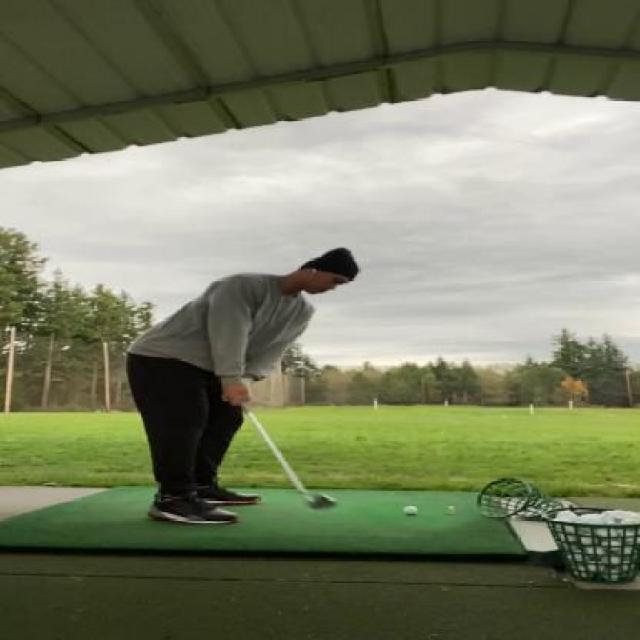club head: (298, 487, 339, 513)
